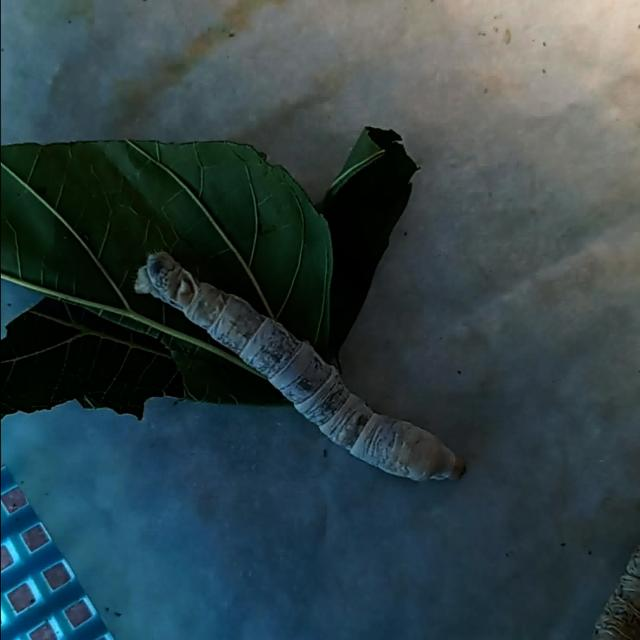Grasserie: (123, 242, 474, 496)
